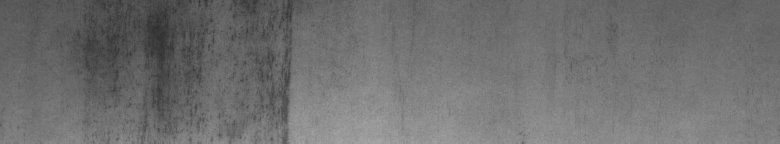ka: (144, 4, 295, 136)
